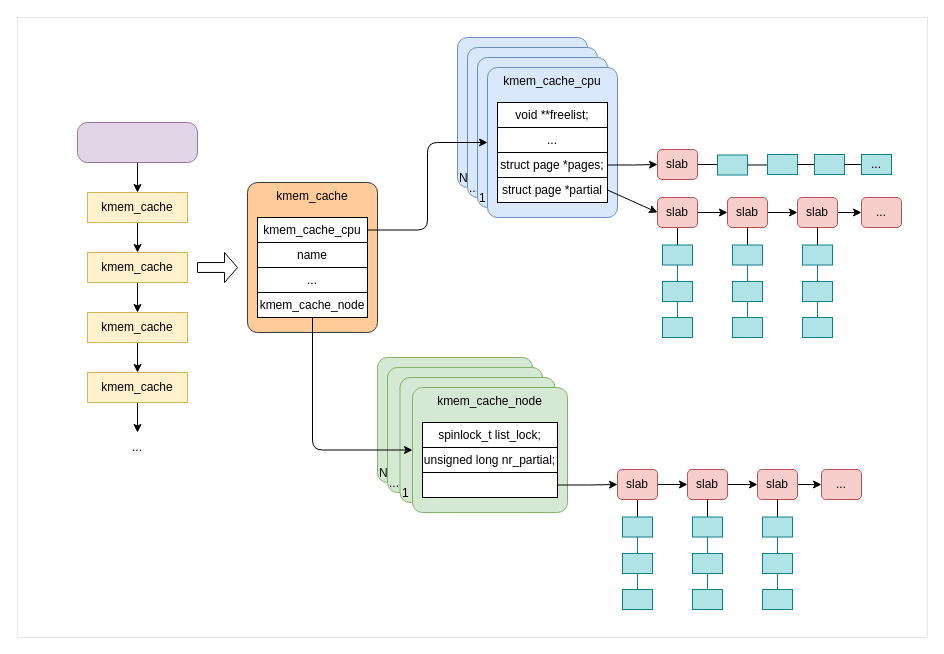
Image size: 944x654. Some labels were removed from this diagram. The shapes that lost their labels are listed below. From the top down, each one's centre as x and y in pixels, then its label:
the point at 137,142: 链表头 slab_caches
the point at 490,485: struct list_head partial;
